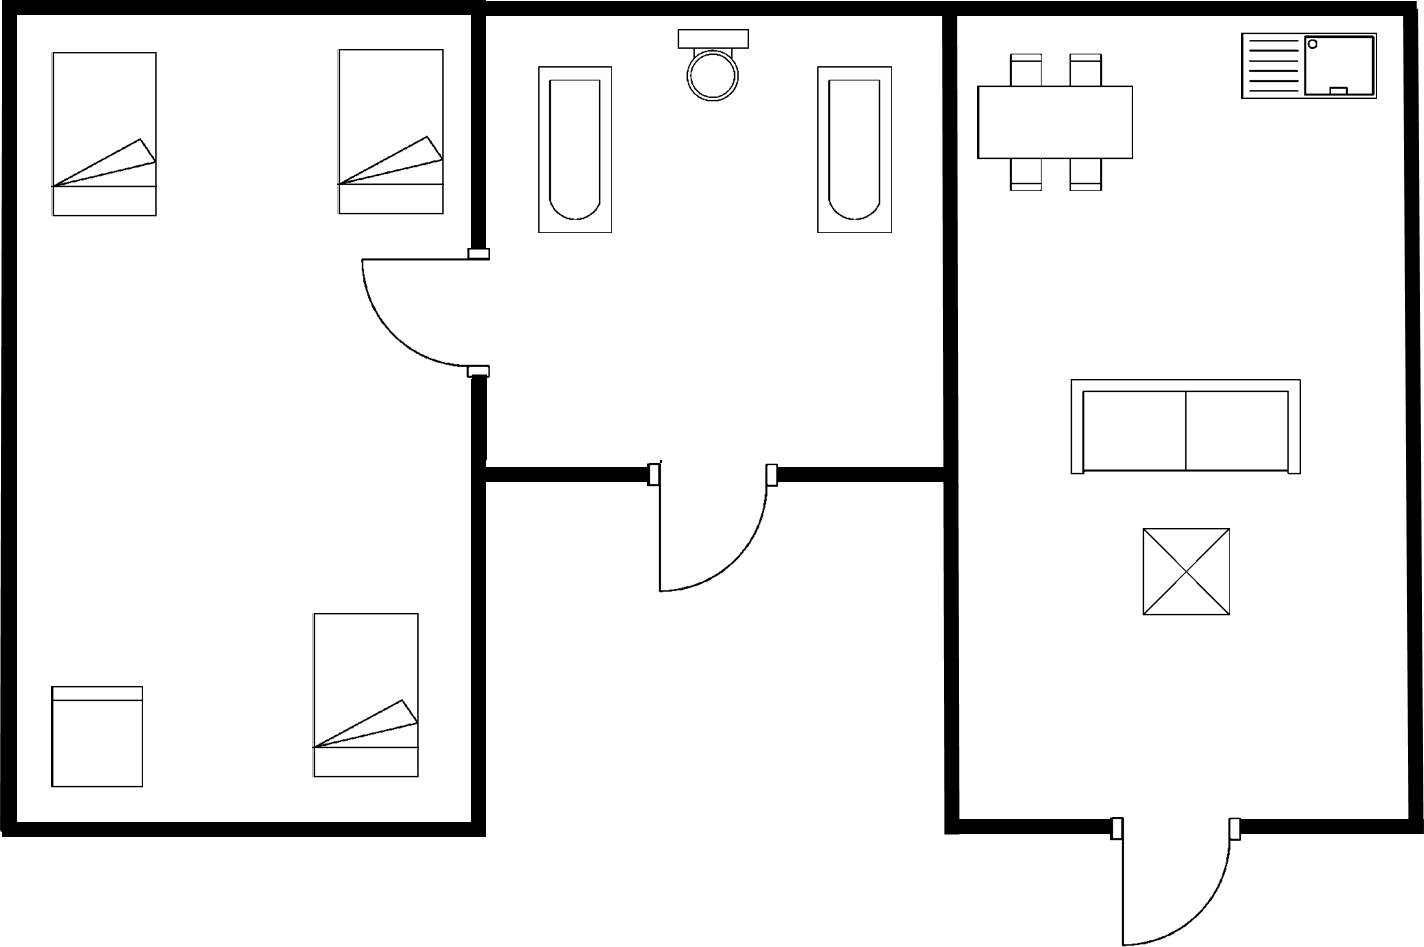bed: (331, 43, 449, 223), (45, 46, 163, 224), (310, 609, 424, 783)
coffee_table: (1137, 522, 1235, 622)
dining_table: (972, 50, 1139, 198)
large_sink: (672, 24, 756, 106)
large_sofa: (1064, 374, 1308, 480)
sink: (1235, 26, 1383, 106)
small_sofa: (47, 682, 149, 792)
tub: (809, 62, 897, 237), (533, 61, 616, 240)
